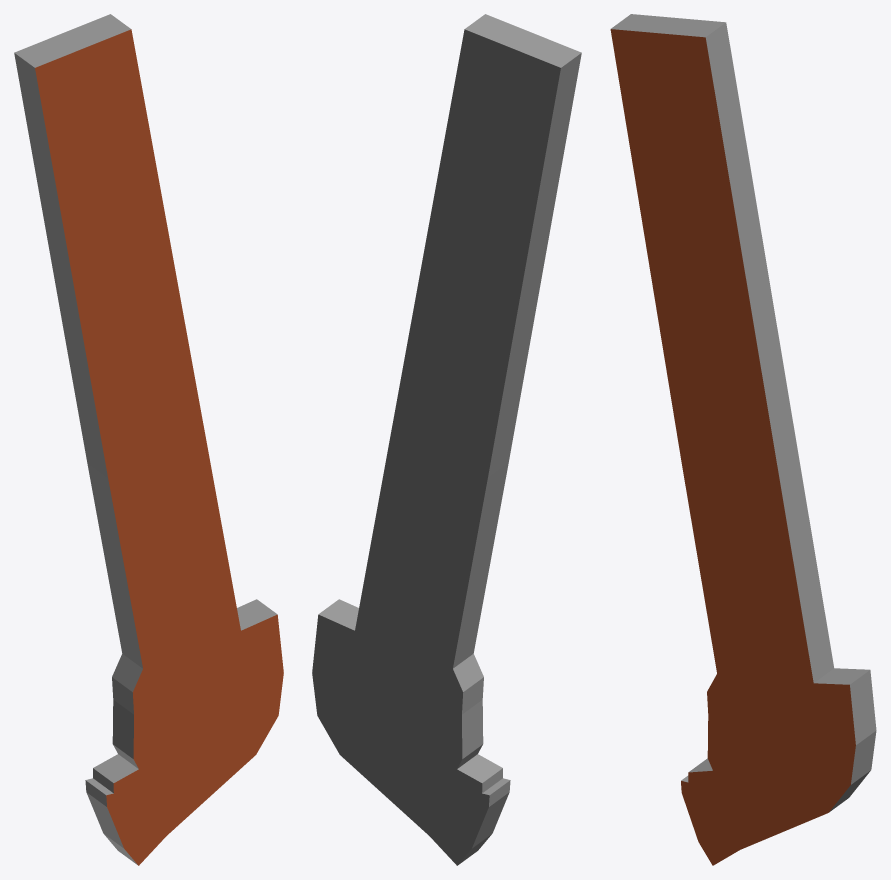
File: construction_4280_assumed_A_Casa_h6m.obj
The picture shows the model from 3 angles, left to right: view 1: azimuth 30°, elevation 25°; view 2: azimuth 150°, elevation 25°; view 3: azimuth 330°, elevation 25°; orthographic projection.
Parts seen in each view (by area): view 1: construction_4280_assumed_A_Casa; view 2: construction_4280_assumed_A_Casa; view 3: construction_4280_assumed_A_Casa.
Part boxes in pixels (x1,y1,x2,y2): construction_4280_assumed_A_Casa: (14, 14, 283, 865); construction_4280_assumed_A_Casa: (312, 14, 581, 865); construction_4280_assumed_A_Casa: (610, 14, 876, 865).
Bounding box in the file's own units: 41.35 × 133 × 6.
